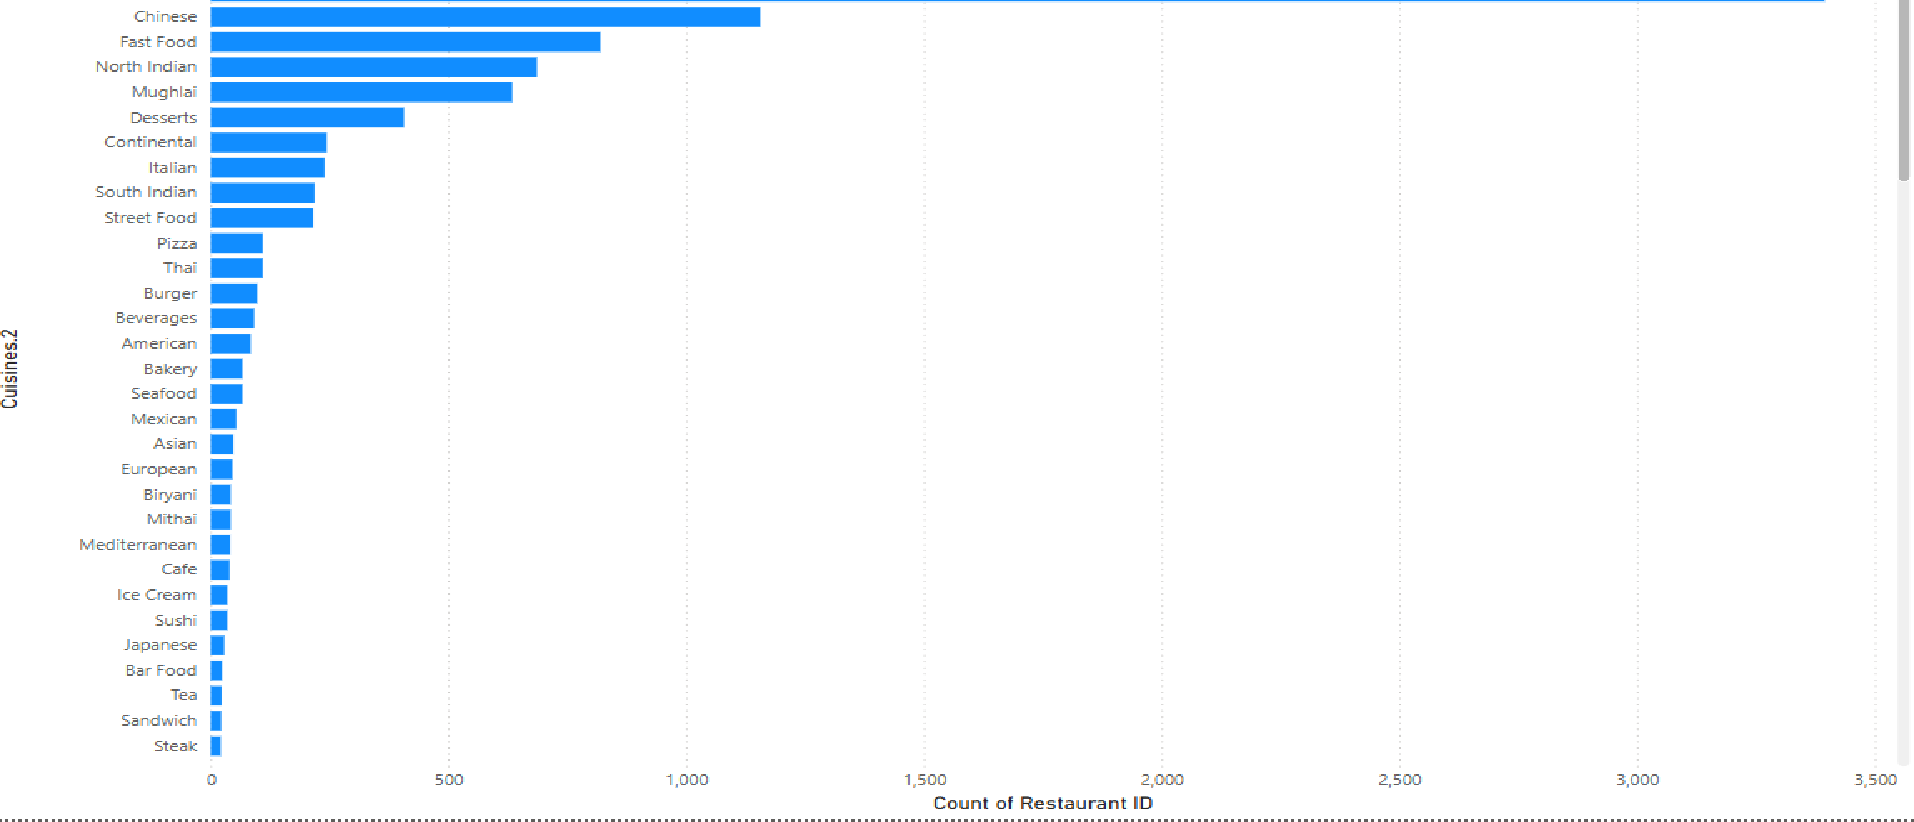

The dashboard page shown, as its layout file describes it:
{"tool":"powerbi","page":{"name":"Page 3","canvas":[1280,720],"ordinal":2},"visuals":[{"type":"barChart","fields":{"Y":["CountNonNull(Sheet1.Restaurant ID)"],"Category":["Sheet1.Cuisines.2"]},"box":[9.6,0,1270.7,720.4],"z":0}]}

Visuals, with their boxes on the page's 1280x720 design canvas (x1, y1, x2, y2). These are canvas units, not pixel positions in the 1914x822 screenshot, which may show the page scaled, cropped or inside an application window:
barChart - CountNonNull(Sheet1.Restaurant ID) x Sheet1.Cuisines.2: bbox(10, 0, 1280, 720)
